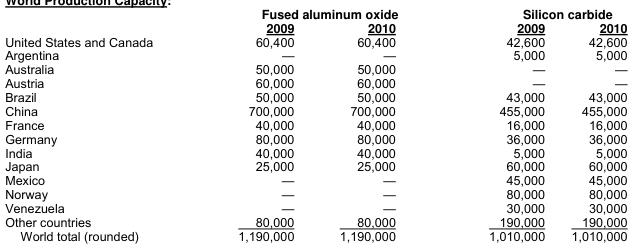table: (4, 4, 626, 242)
table column: (4, 4, 194, 242), (316, 4, 442, 242), (194, 4, 316, 242), (442, 4, 557, 242), (557, 4, 626, 242)
table column header: (4, 4, 626, 34)
table row: (4, 4, 626, 19), (4, 19, 626, 34), (4, 34, 626, 48), (4, 61, 626, 75), (4, 75, 626, 89), (4, 89, 626, 103), (4, 103, 626, 117), (4, 117, 626, 131), (4, 131, 626, 145), (4, 145, 626, 159), (4, 159, 626, 173), (4, 186, 626, 200), (4, 200, 626, 214), (4, 214, 626, 228), (4, 228, 626, 242), (4, 48, 626, 61), (4, 173, 626, 186)
table spanning cell: (194, 4, 442, 19), (442, 4, 626, 19)
